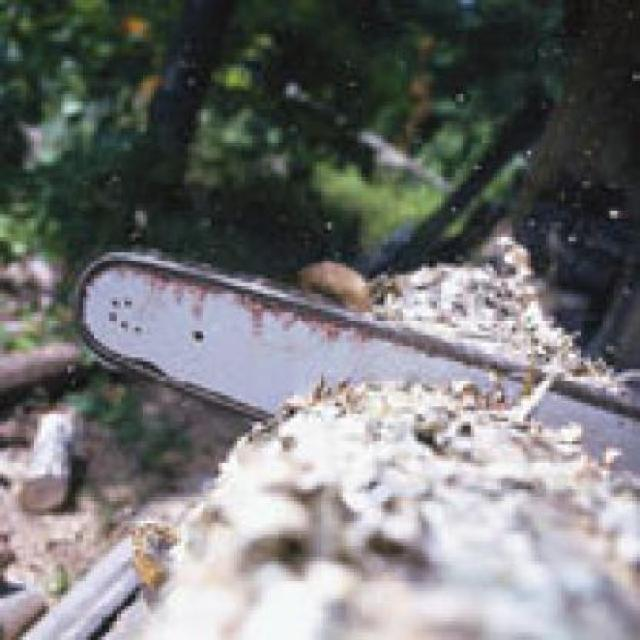Chainsaw: (67, 244, 640, 483)
